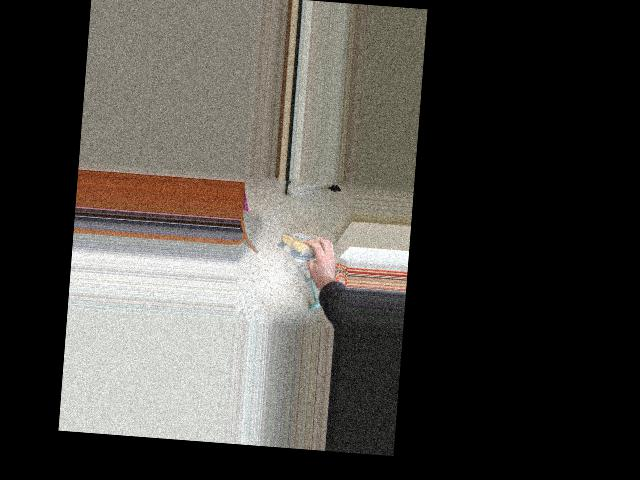cheese: (276, 230, 324, 257)
